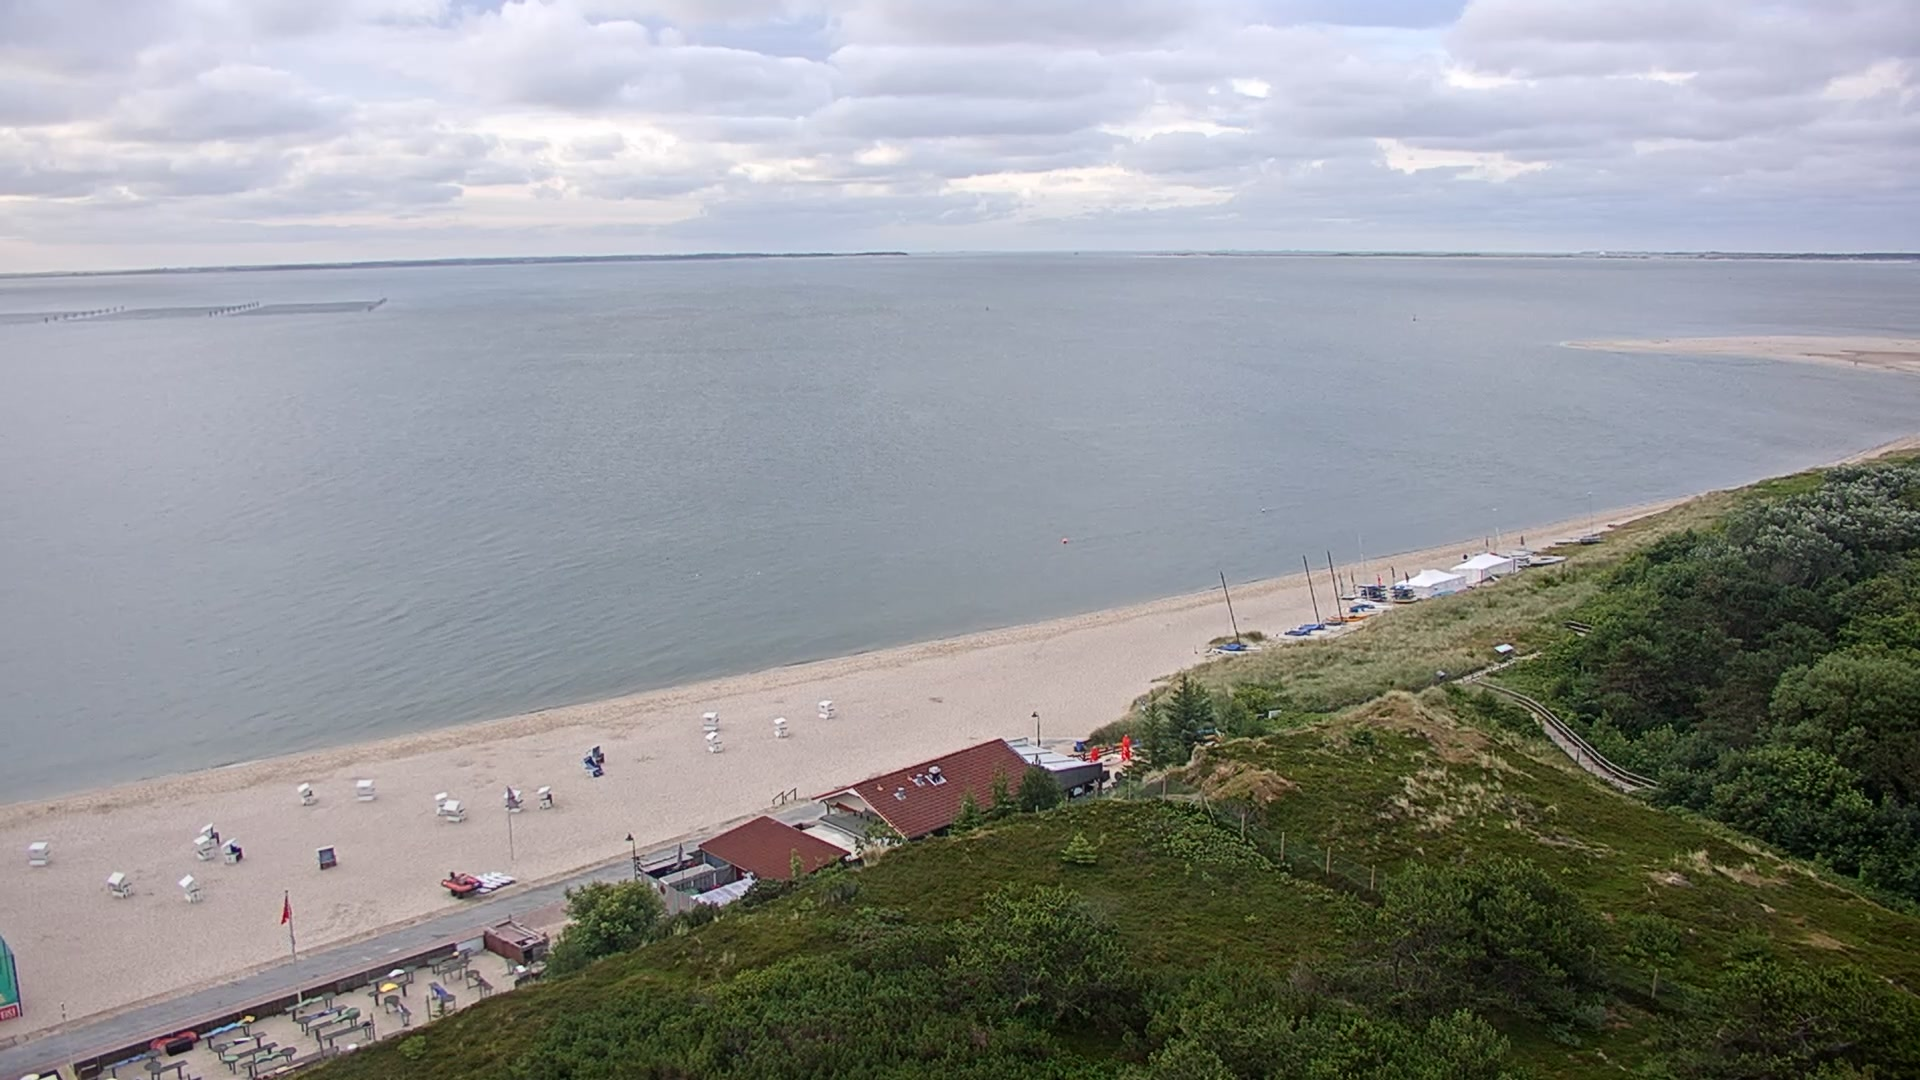sea: (1209, 568, 1261, 655), (1340, 534, 1393, 616), (1292, 553, 1336, 636), (1320, 549, 1361, 628), (440, 869, 483, 891)
